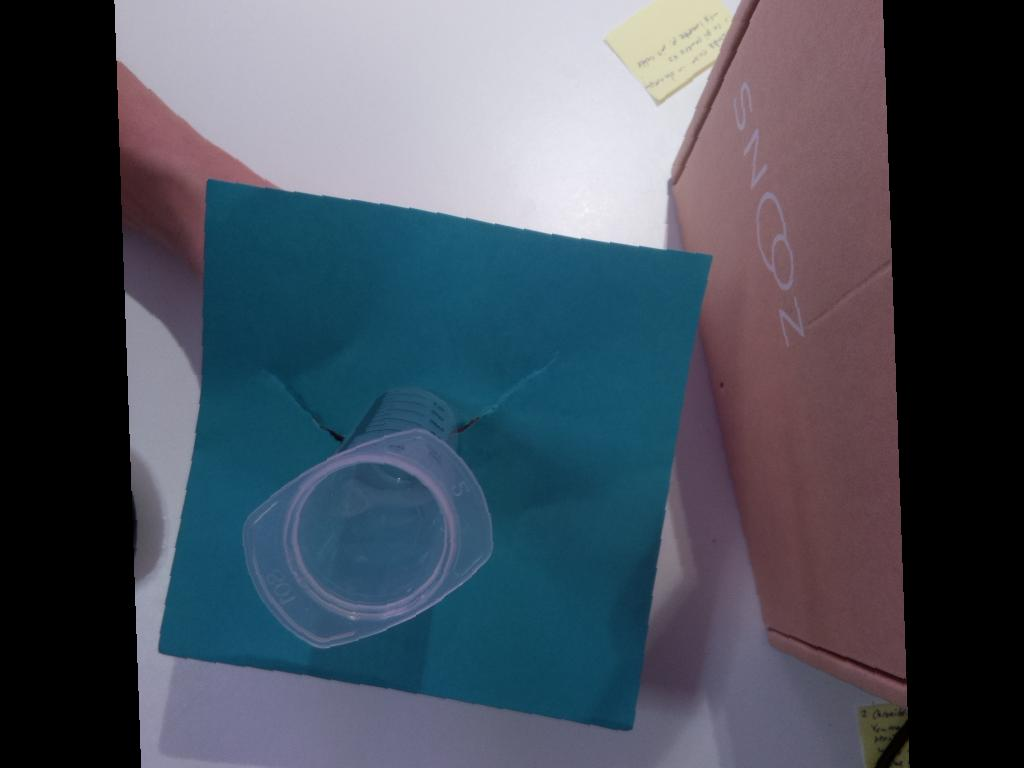clean: (237, 425, 496, 649)
